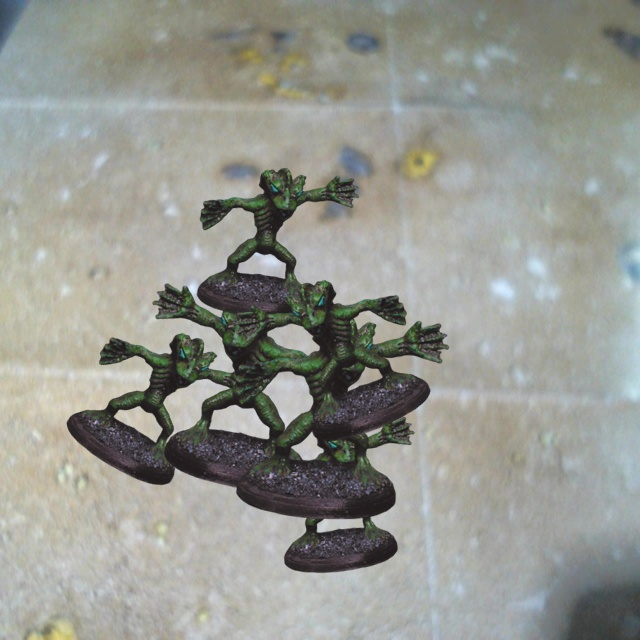pieza_juego: (235, 314, 448, 518), (152, 283, 334, 490), (234, 280, 430, 440), (67, 333, 261, 484), (197, 168, 358, 318), (269, 417, 414, 572)
